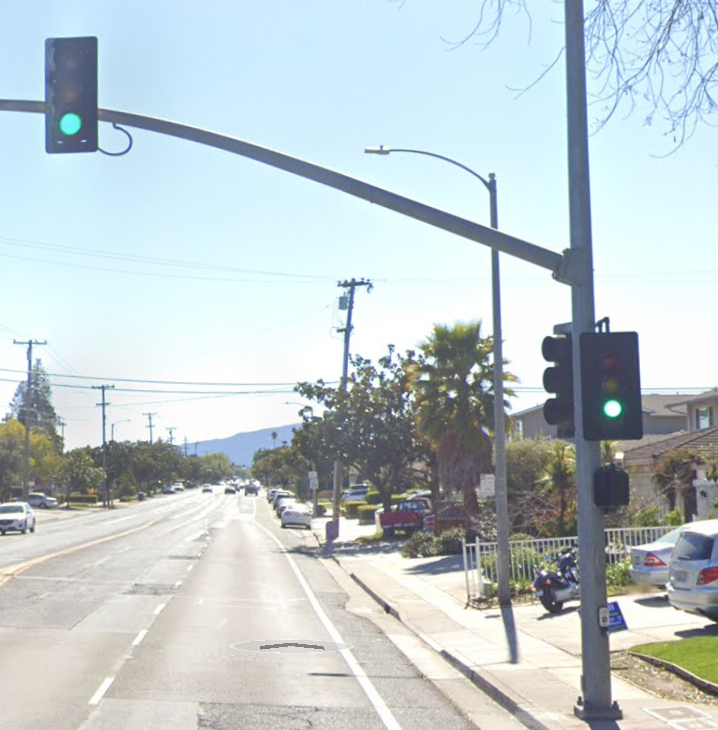green_light: (45, 38, 92, 149), (588, 336, 633, 438)
